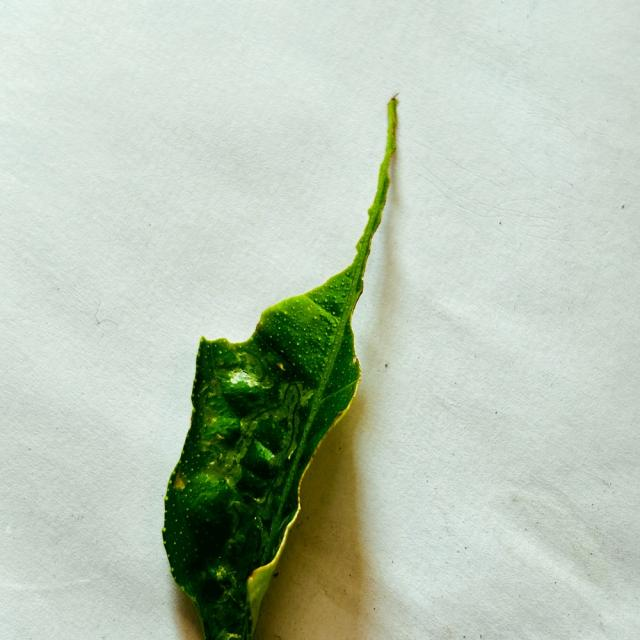Deficiency Leaf: (198, 136, 382, 341), (349, 136, 407, 368)
Lemon: (163, 98, 397, 639)
